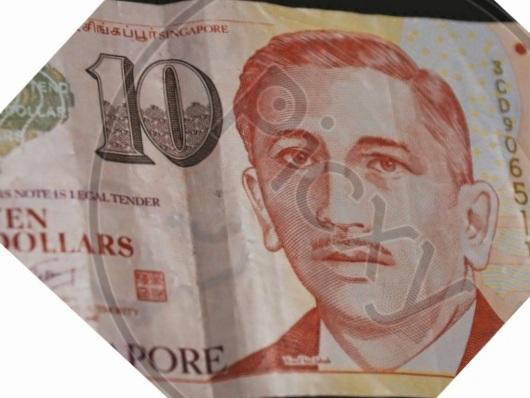10SingaporeDollar: (0, 24, 530, 395)
